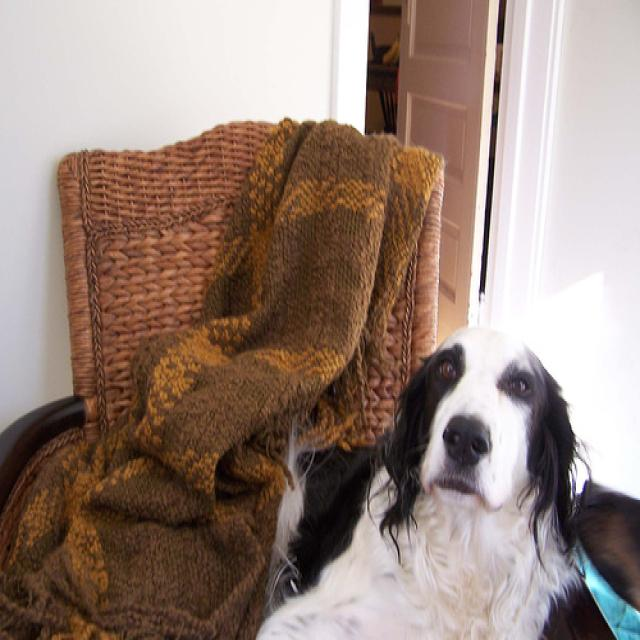dog-english_setter: (250, 305, 580, 637)
